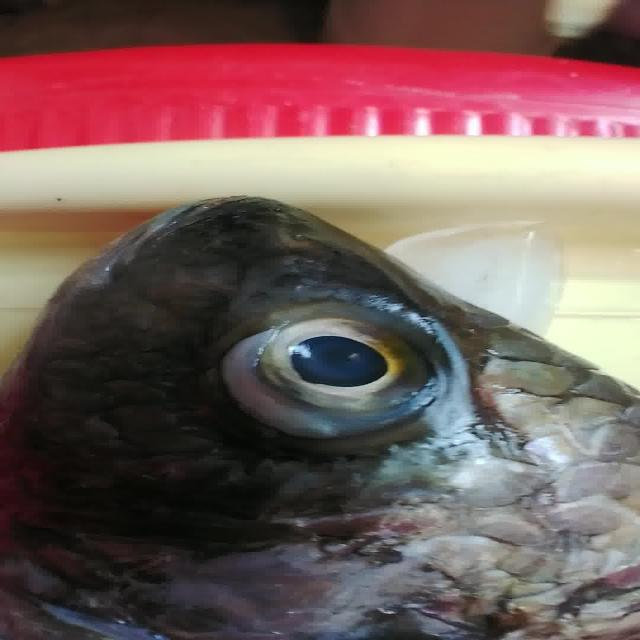Fresh: (184, 293, 482, 454)
